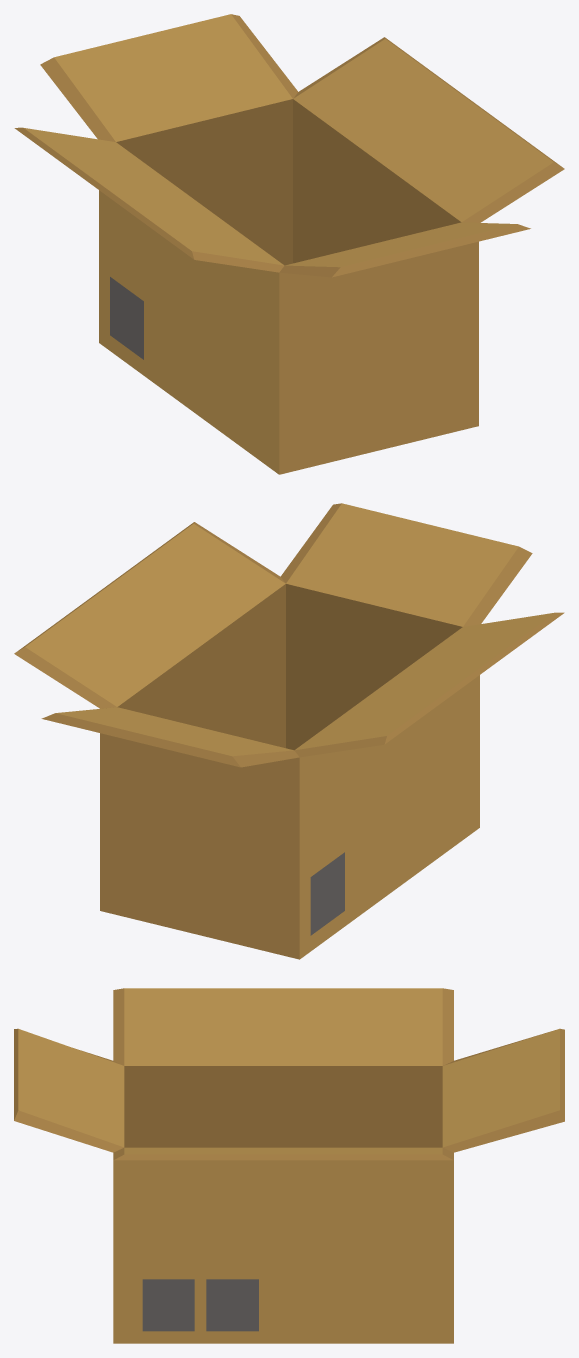
File: CardboardBox2.glb
3 views of the same model, one above another, from view 1: azimuth 30°, elevation 25°; view 2: azimuth 150°, elevation 25°; view 3: azimuth 270°, elevation 25° (orthographic). The views are drawn at different scales.
Visible parts, largest first — view 1: SI_Prop_CarboardBox_02; view 2: SI_Prop_CarboardBox_02; view 3: SI_Prop_CarboardBox_02.
Part boxes in pixels (left/top/right/bottom): SI_Prop_CarboardBox_02: left=14, top=14, right=564, bottom=474; SI_Prop_CarboardBox_02: left=14, top=503, right=564, bottom=959; SI_Prop_CarboardBox_02: left=14, top=988, right=564, bottom=1343.
Size of the model in its own units: 0.0123 by 0.00764 by 0.0167.
1 material, 1 textured.
